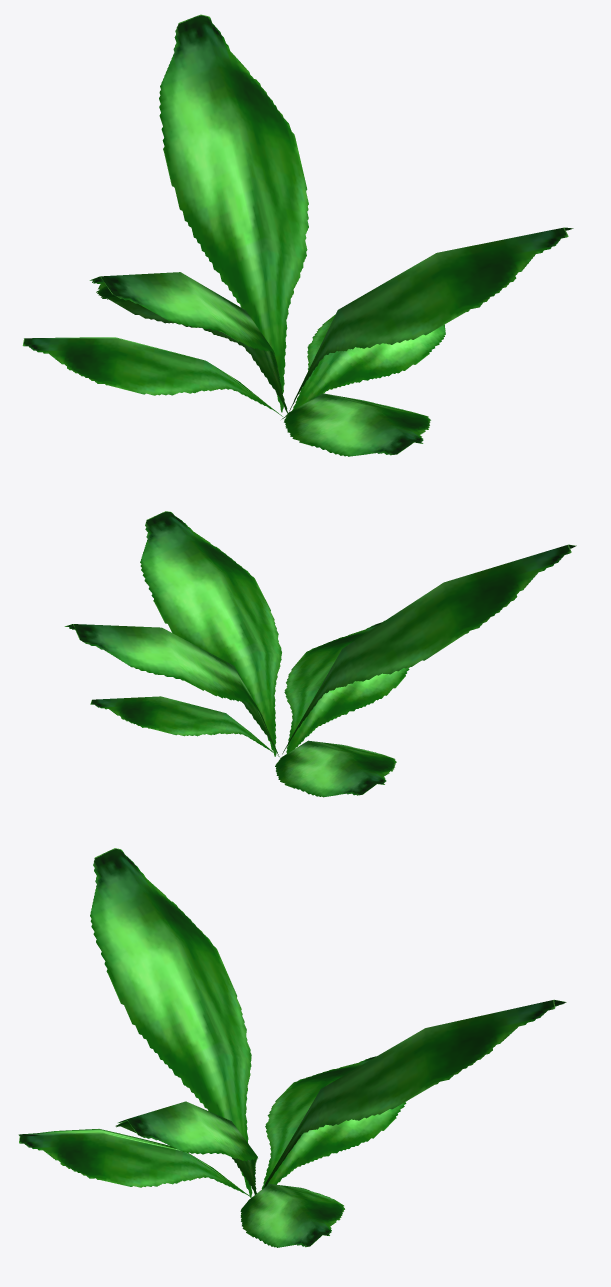
The model's file is INST_EKH_H2O_LILLYA_PLANT_01.obj.
3 views of the same model, one above another, from view 1: azimuth 30°, elevation 25°; view 2: azimuth 150°, elevation 25°; view 3: azimuth 270°, elevation 25° (orthographic). The views are drawn at different scales.
Visible parts, largest first — view 1: t_Waterlilly_A_; view 2: t_Waterlilly_A_; view 3: t_Waterlilly_A_.
Boxes of the visible parts, x1=… form: t_Waterlilly_A_: x1=22, y1=14, x2=573, y2=456; t_Waterlilly_A_: x1=64, y1=511, x2=576, y2=797; t_Waterlilly_A_: x1=18, y1=848, x2=566, y2=1247.
Size of the model in its own units: 145 by 67.72 by 141.
